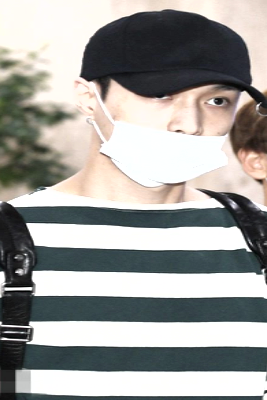mask_weared_incorrect: (94, 86, 238, 184)
